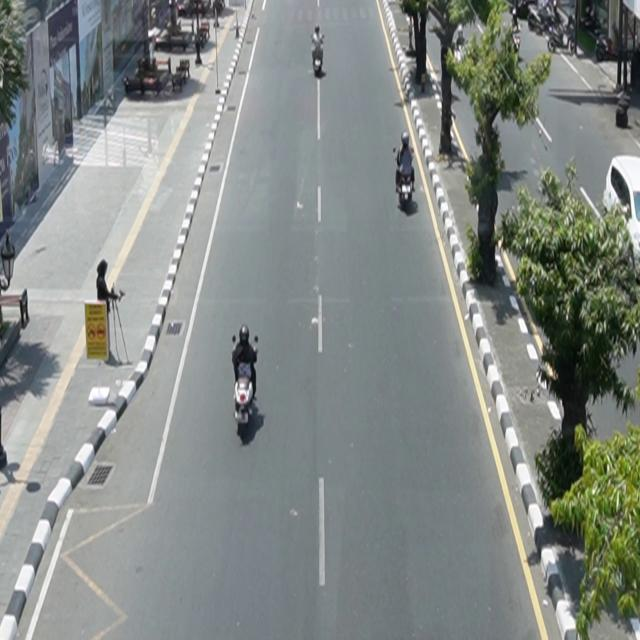car: (603, 155, 640, 279)
